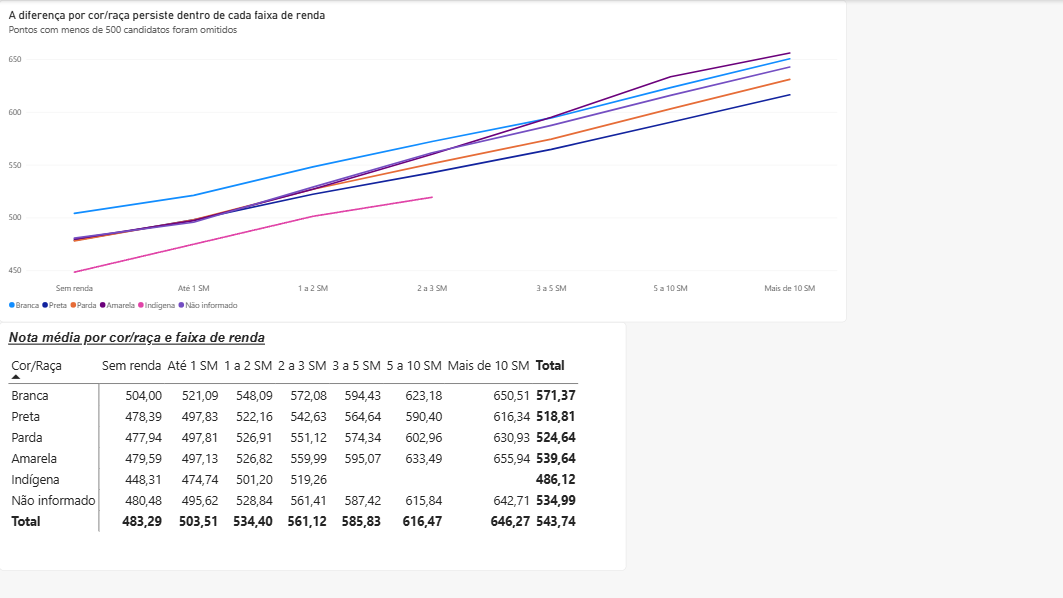

What the dashboard file says about the page in this screenshot:
{"tool":"powerbi","page":{"name":"Cor/raça e renda","canvas":[1920,1080],"ordinal":2},"visuals":[{"type":"lineChart","title":"A diferença por cor/raça persiste dentro de cada faixa de renda","fields":{"Category":["dRenda.FAIXA_RENDA"],"Series":["dCorRaca.COR_RACA"],"Y":["fEnem.Nota Média (n ≥ 500)"]},"box":[0,0,1531.4,582.4],"z":0},{"type":"pivotTable","title":"Nota média por cor/raça e faixa de renda","fields":{"Columns":["dRenda.FAIXA_RENDA"],"Rows":["dCorRaca.COR_RACA"],"Values":["fEnem.Nota Média (n ≥ 500)"]},"box":[0,582.4,1133.3,449],"z":1}]}

Visuals, with their boxes in screenshot pixels (x1, y1, x2, y2), scaled from the page's 1920x1080 canvas onto the 1063x598 screenshot:
"A diferença por cor/raça persiste dentro de cada faixa de renda" lineChart: [x1=0, y1=0, x2=848, y2=322]
"Nota média por cor/raça e faixa de renda" pivotTable: [x1=0, y1=322, x2=627, y2=571]
